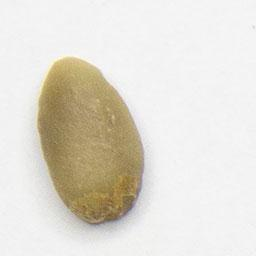longberry: (33, 52, 149, 228)
